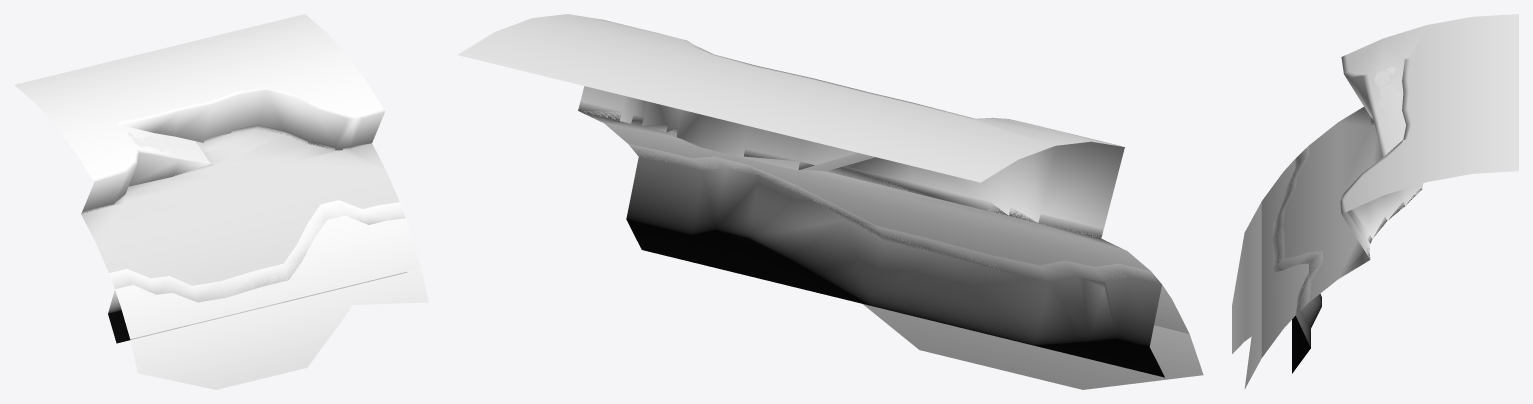
The model's file is grd_Ms_S_1.dae.
The picture shows the model from 3 angles, left to right: view 1: azimuth 30°, elevation 25°; view 2: azimuth 150°, elevation 25°; view 3: azimuth 270°, elevation 25°; orthographic projection. The views are drawn at different scales.
Visible parts, largest first — view 1: grd_Ms_S_1; view 2: grd_Ms_S_1; view 3: grd_Ms_S_1.
Part boxes in pixels (left/top/right/bottom): grd_Ms_S_1: left=14, top=14, right=428, bottom=389; grd_Ms_S_1: left=458, top=14, right=1203, bottom=389; grd_Ms_S_1: left=1232, top=14, right=1518, bottom=388.
Bounding box in the file's own units: 512 × 383 × 395.
7 materials, 1 textured.
